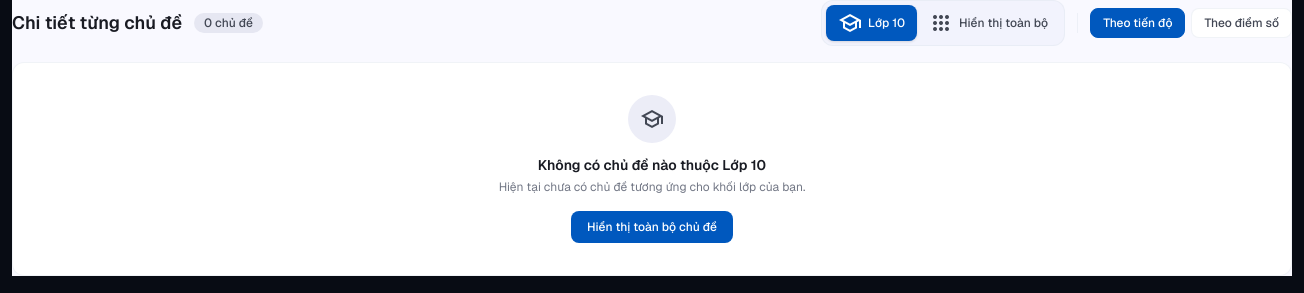
Test: TopicMasteryGrid › shows empty filter state and allows resetting when current grade has no topics
This screenshot has width=1304, height=293.
Expected: the heading "Không có chủ đề nào thuộc Lớp 10" is shown, [538,156,766,174]
Click reset button in empty state
Step 1. Click the button "Hiển thị toàn bộ chủ đề" → click(652, 227), box [571,211,733,243]
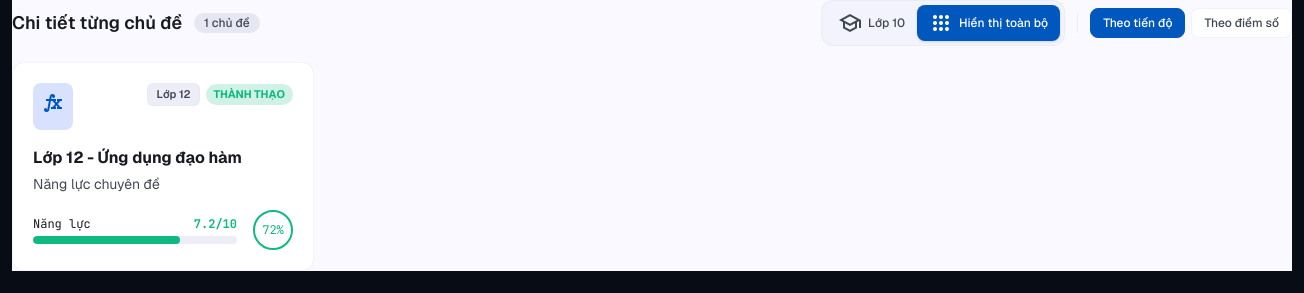
Expected: the heading "Lớp 12 - Ứng dụng đạo hàm" is shown, [33,147,242,168]
